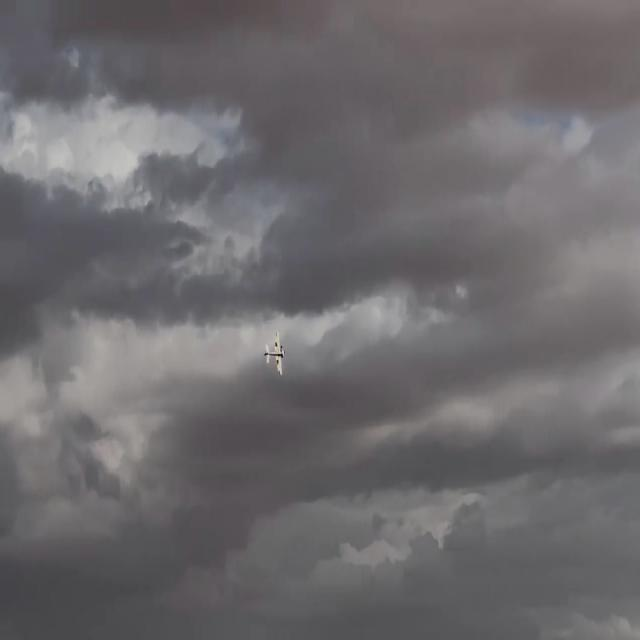iha: (260, 330, 291, 377)
